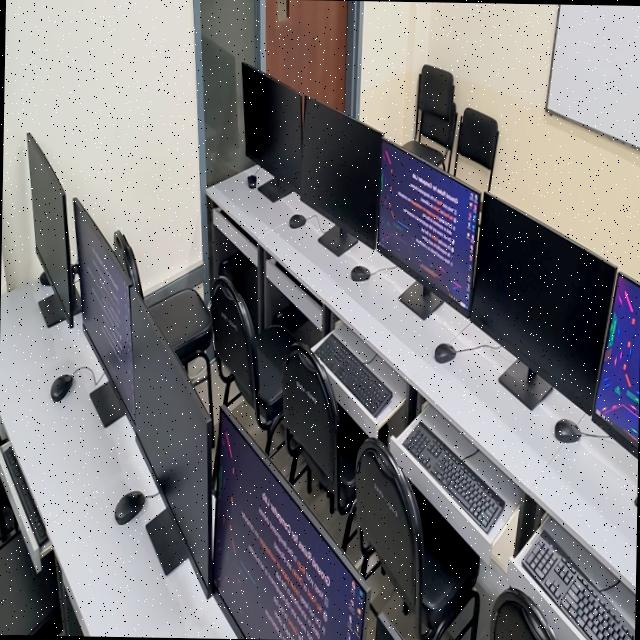Chair: (355, 437, 480, 640), (209, 275, 296, 454), (282, 345, 366, 514), (111, 228, 212, 362), (0, 532, 61, 635), (403, 64, 457, 169), (454, 107, 499, 189), (490, 587, 558, 640)
Cpu: (219, 243, 252, 283), (273, 302, 305, 332)
Keyboard: (522, 533, 635, 640), (404, 422, 504, 532), (314, 334, 392, 416), (3, 445, 50, 548)
Monitor: (213, 411, 369, 640), (470, 192, 617, 414), (130, 287, 212, 598), (377, 140, 480, 319), (74, 200, 133, 427), (299, 98, 381, 254), (27, 133, 77, 327), (592, 273, 640, 459), (242, 63, 302, 201)
Mouse: (114, 490, 145, 525), (554, 418, 582, 442), (51, 374, 73, 401), (434, 343, 455, 362), (351, 265, 370, 280), (289, 214, 306, 228), (39, 270, 49, 286), (247, 174, 256, 187)
